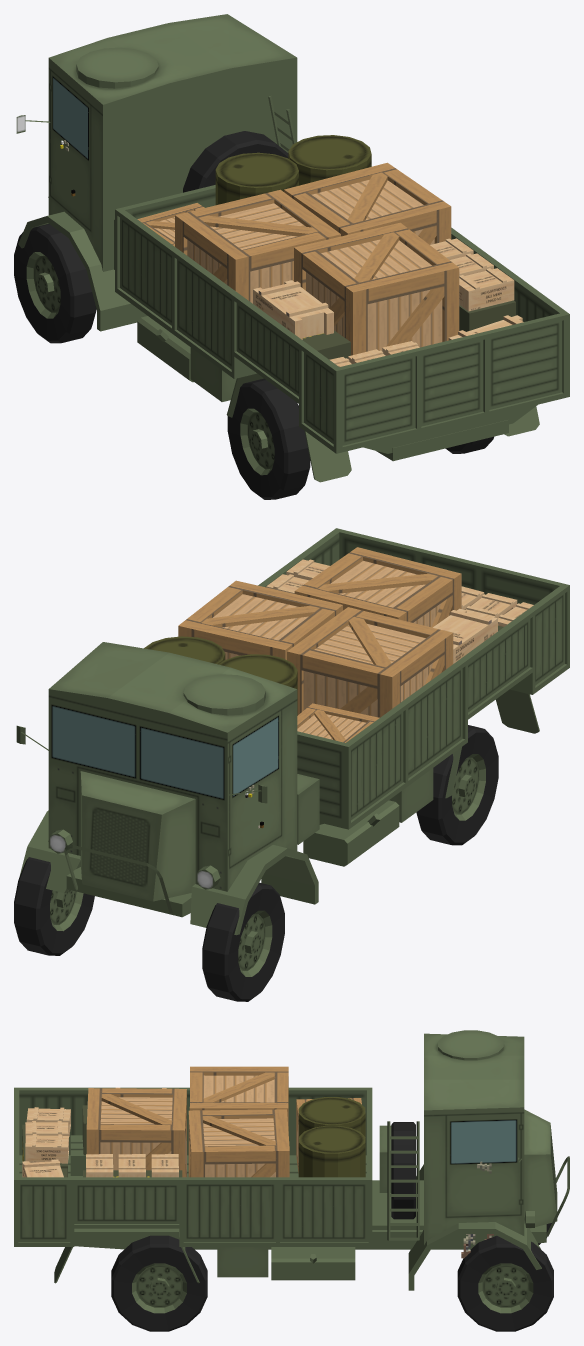
The model's file is austin_k5_armoury.glb.
3 renders of one model, top to bottom at view 1: azimuth 30°, elevation 25°; view 2: azimuth 150°, elevation 25°; view 3: azimuth 270°, elevation 25°, orthographic. The views are drawn at different scales.
Parts seen in each view (by area): view 1: 04_chassis_austin_k5_armoury_chassis.mesh, 02_tire_index_2_austin_k5_wheel.mesh, 00_tire_index_0_austin_k5_wheel.mesh; view 2: 04_chassis_austin_k5_armoury_chassis.mesh, 00_tire_index_0_austin_k5_wheel.mesh, 02_tire_index_2_austin_k5_wheel.mesh, 01_tire_index_1_austin_k5_wheel.mesh; view 3: 04_chassis_austin_k5_armoury_chassis.mesh, 03_tire_index_3_austin_k5_wheel.mesh, 01_tire_index_1_austin_k5_wheel.mesh.
Part boxes in pixels (x1,y1,x2,y2): 04_chassis_austin_k5_armoury_chassis.mesh: (16,14,569,482); 02_tire_index_2_austin_k5_wheel.mesh: (227,378,310,499); 00_tire_index_0_austin_k5_wheel.mesh: (14,224,96,343); 04_chassis_austin_k5_armoury_chassis.mesh: (16,528,569,935); 00_tire_index_0_austin_k5_wheel.mesh: (202,882,284,1001); 02_tire_index_2_austin_k5_wheel.mesh: (416,725,498,845); 01_tire_index_1_austin_k5_wheel.mesh: (14,857,94,955); 04_chassis_austin_k5_armoury_chassis.mesh: (14,1030,569,1290); 03_tire_index_3_austin_k5_wheel.mesh: (111,1235,207,1331); 01_tire_index_1_austin_k5_wheel.mesh: (457,1235,553,1331).
Bounding box in the file's own units: 3.14 × 3.32 × 7.45.
38 materials, 2 textured.
